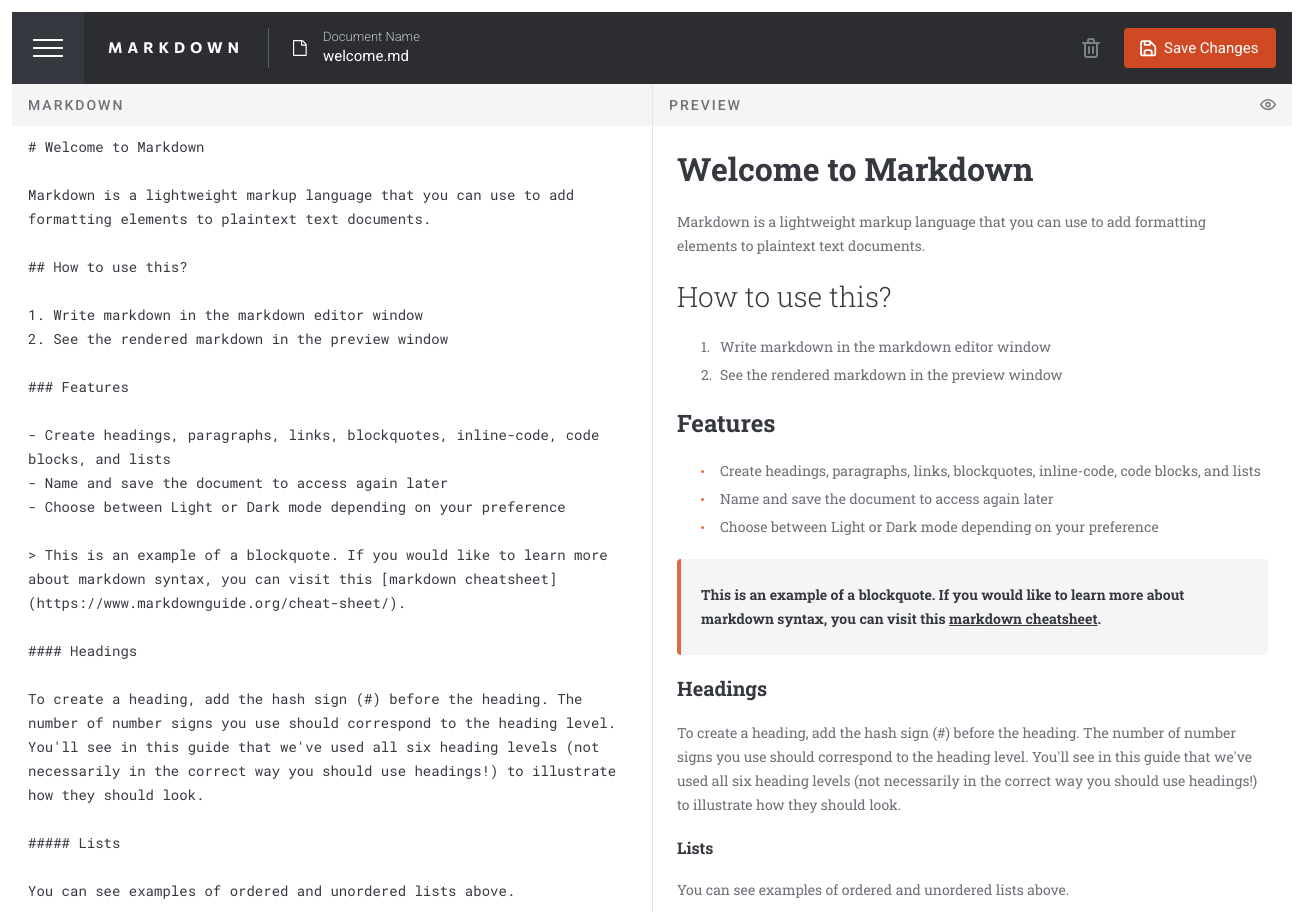
Scenario: MarkdownApp header › saves a rename under a cleaned file name and announces it
Replace the text in the field labelled "Document Name" with "  project notes ". click: (523, 57)
box: x1=323 y1=47 x2=723 y2=67
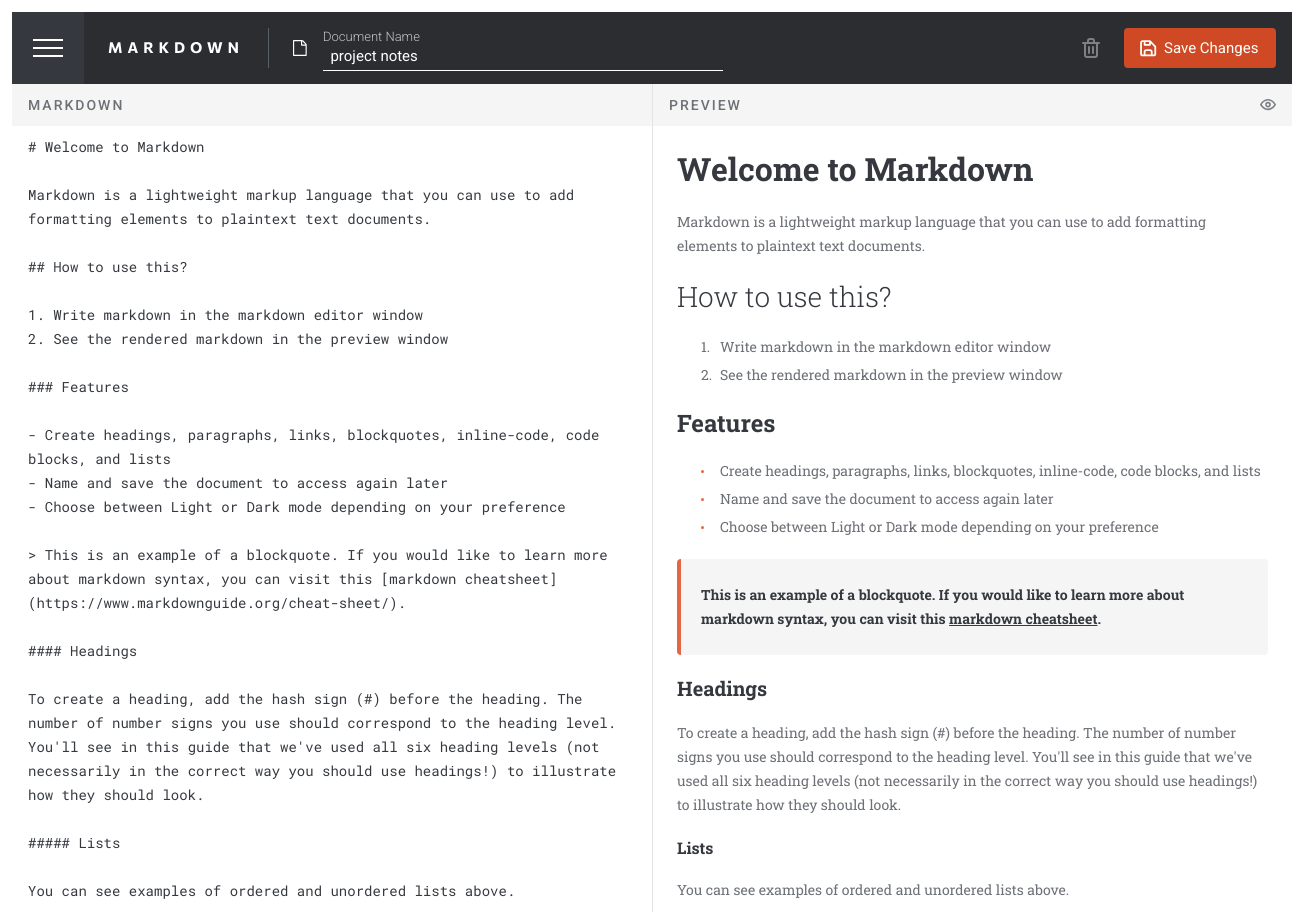
Click the button "Save Changes". click: (1200, 48)
box: x1=1124 y1=28 x2=1276 y2=68
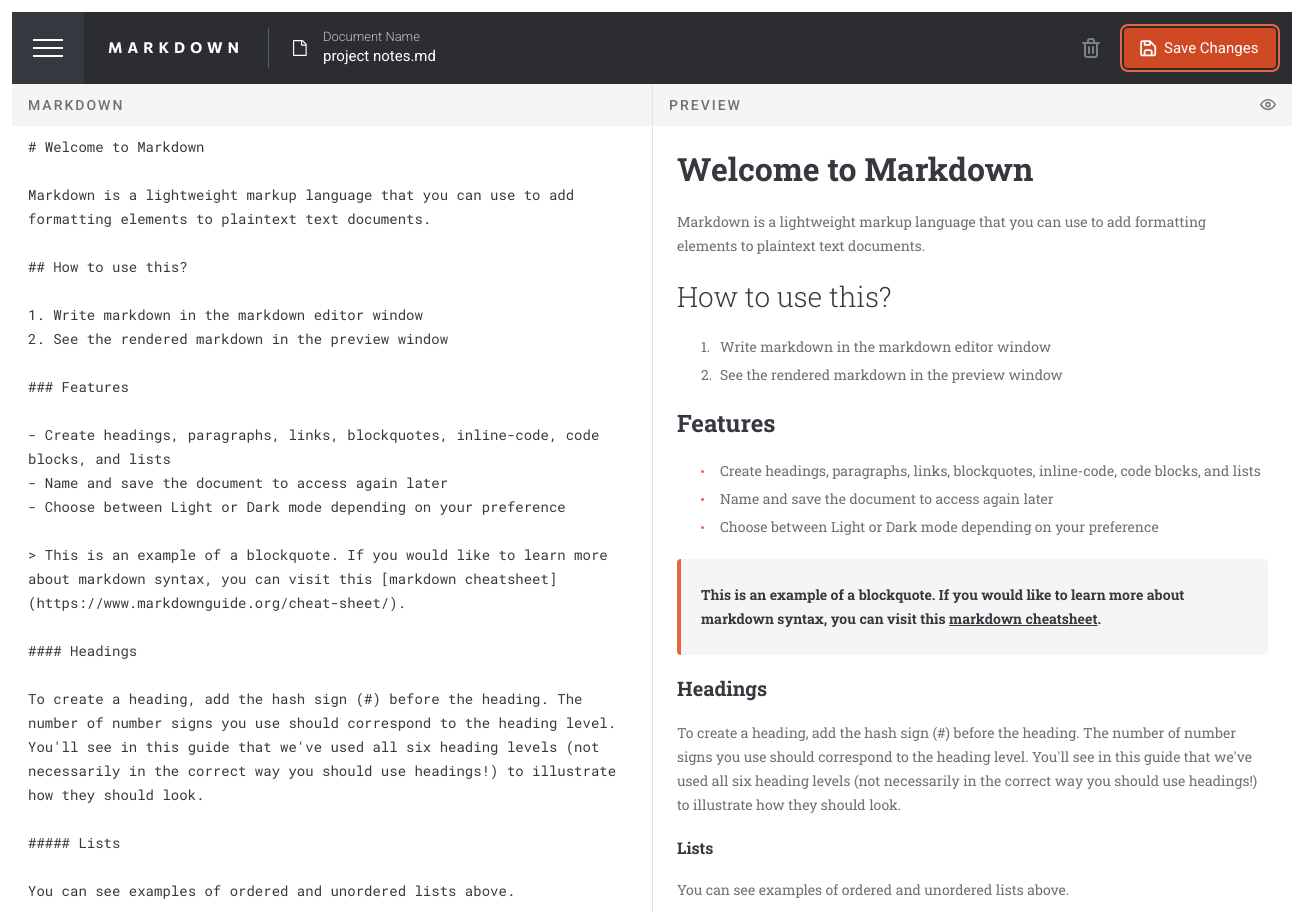
Expected: the field labelled "Document Name" holds "project notes.md", x1=323 y1=47 x2=723 y2=67
